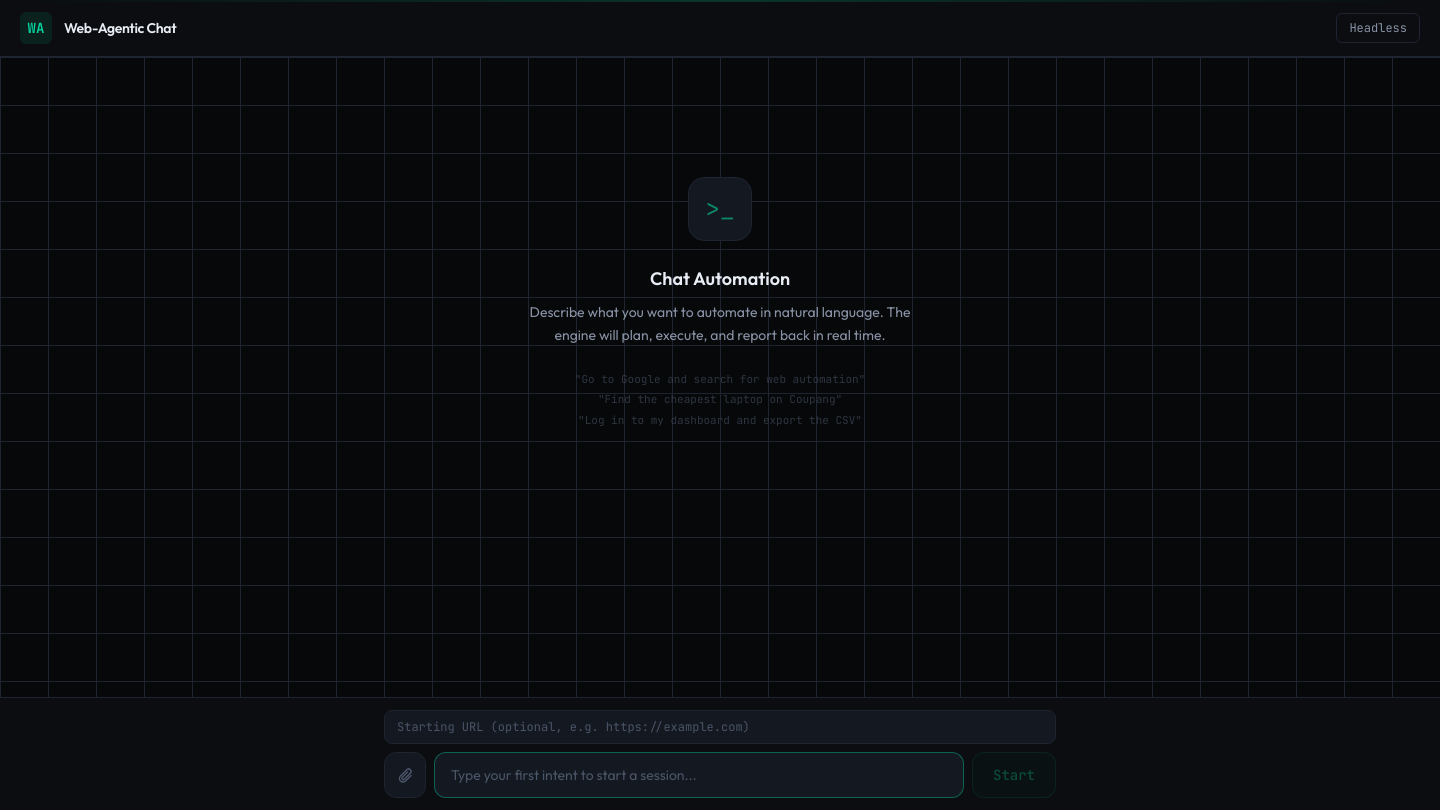
session lifecycle › executes a turn and shows user + result messages
The width and height of the screenshot is (1440, 810).
Note: Create session first
Type "init" into the field with placeholder "Type your first intent to start a session..." at (699, 775), box x1=434 y1=752 x2=964 y2=798
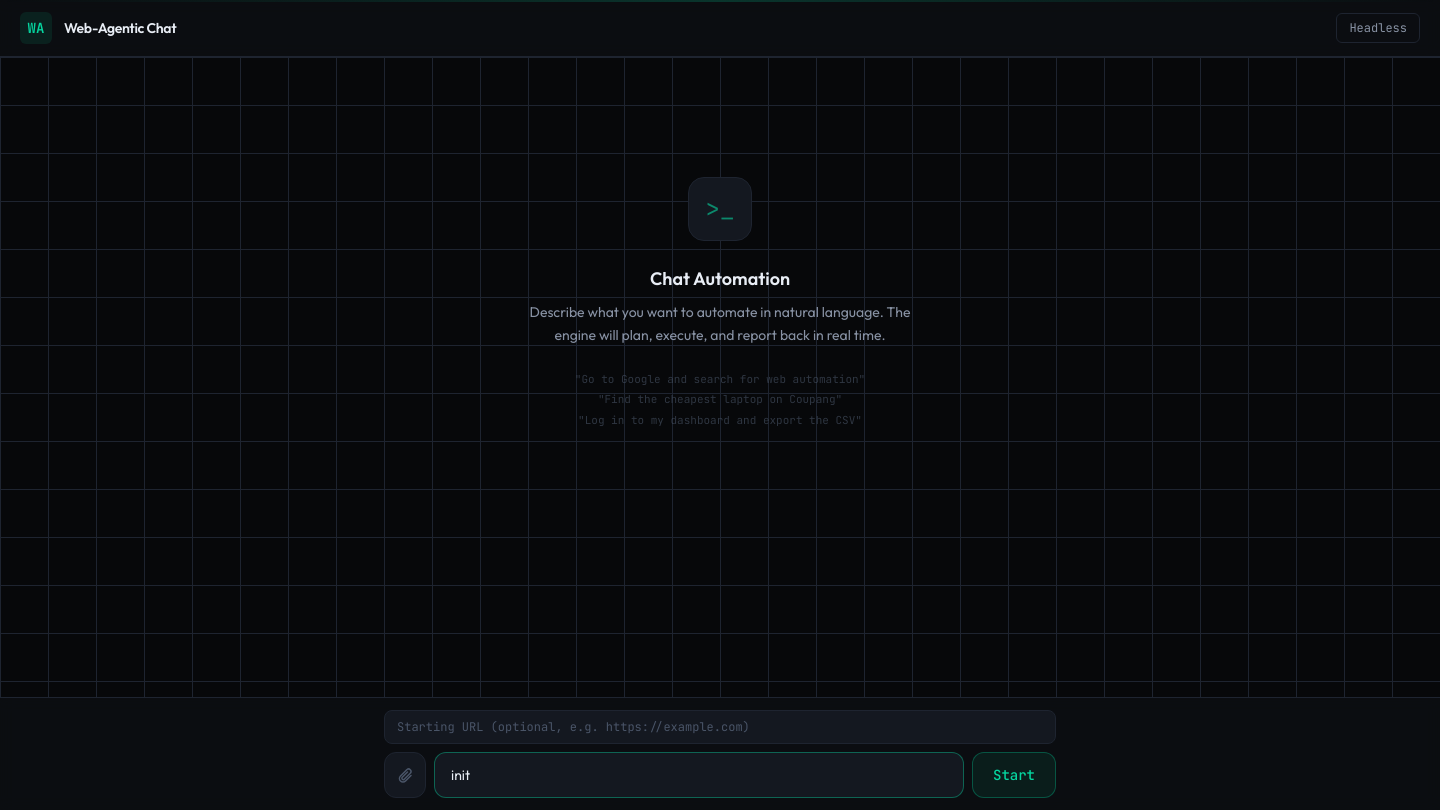
Click the button "Start" at (1014, 775), box x1=972 y1=752 x2=1056 y2=798
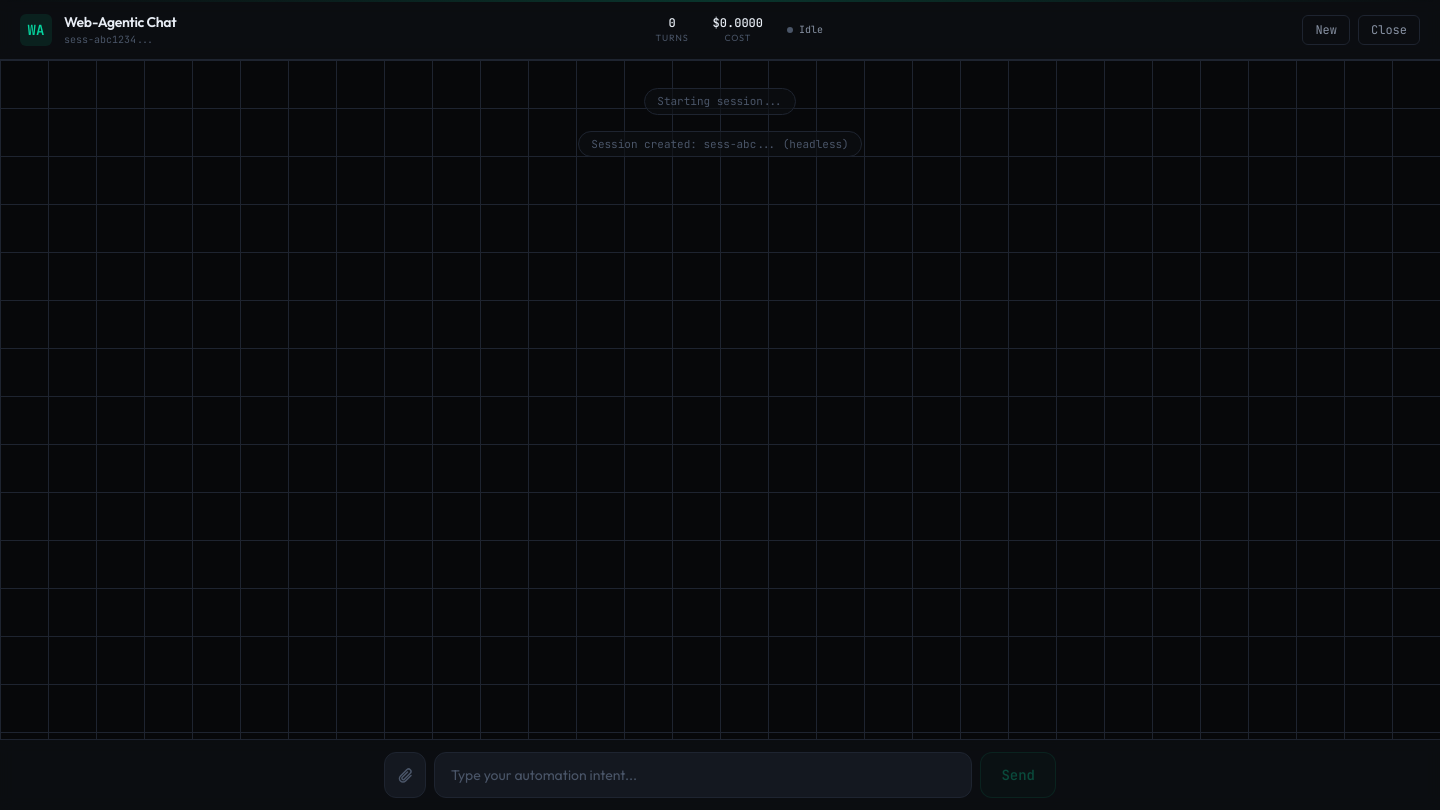
Check: the text "Session created: sess-abc... (headless)" is shown, box x1=578 y1=130 x2=862 y2=157
Note: Now send a turn
Type "click buy button" into the field with placeholder "Type your automation intent..." at (703, 775), box x1=434 y1=752 x2=972 y2=798
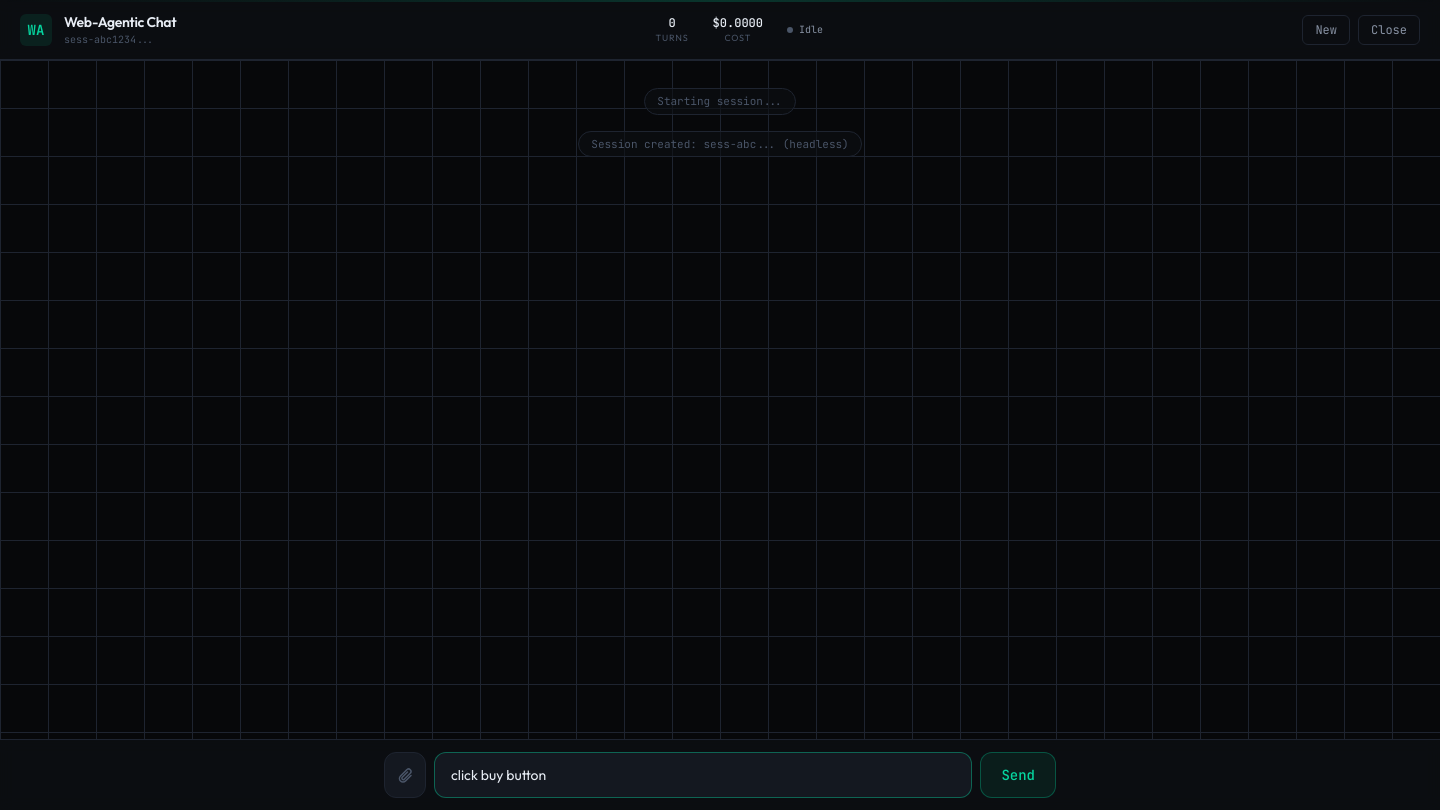
Click the button "Send" at (1018, 775), box x1=980 y1=752 x2=1056 y2=798
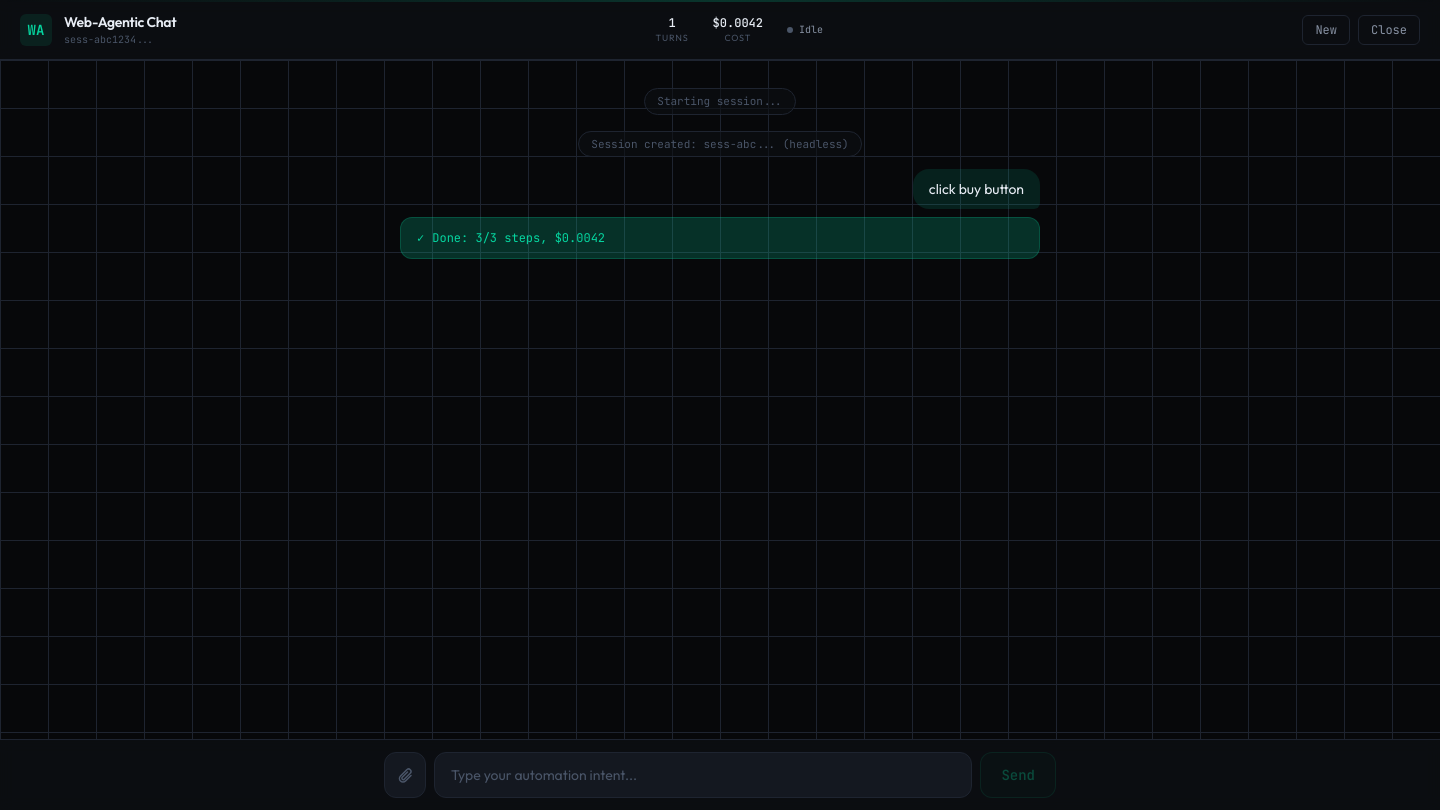
Check: the text "click buy button" is shown, box x1=913 y1=169 x2=1040 y2=209
Check: the text "✓Done: 3/3 steps, $0.0042" is shown, box x1=400 y1=217 x2=1040 y2=259
